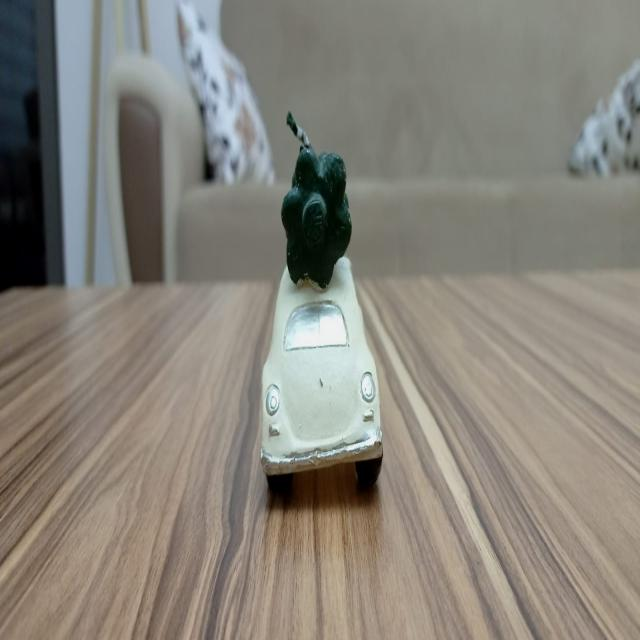car: (253, 263, 391, 482)
